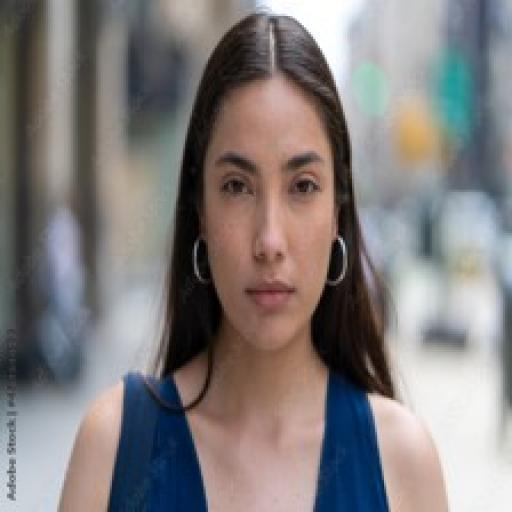human: (57, 0, 456, 512)
